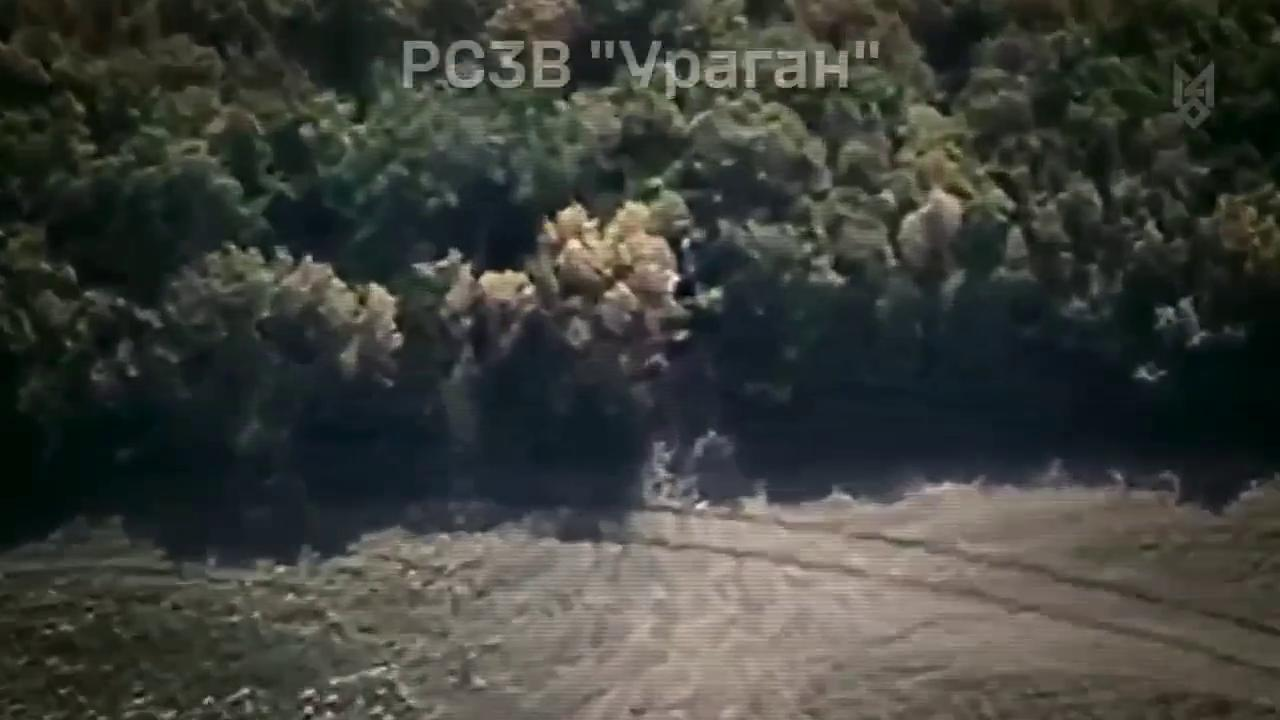tank: (672, 213, 708, 294)
